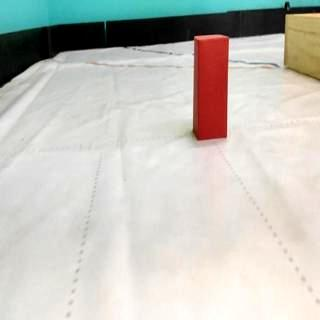redbox: (192, 32, 230, 140)
